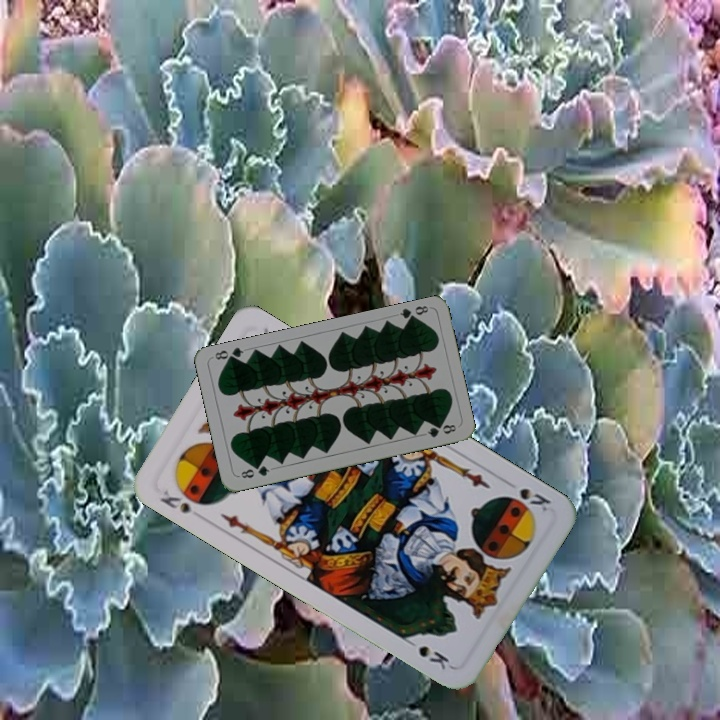G8: (396, 301, 431, 325), (237, 461, 272, 481)
SK: (155, 486, 195, 516), (515, 484, 554, 514)
